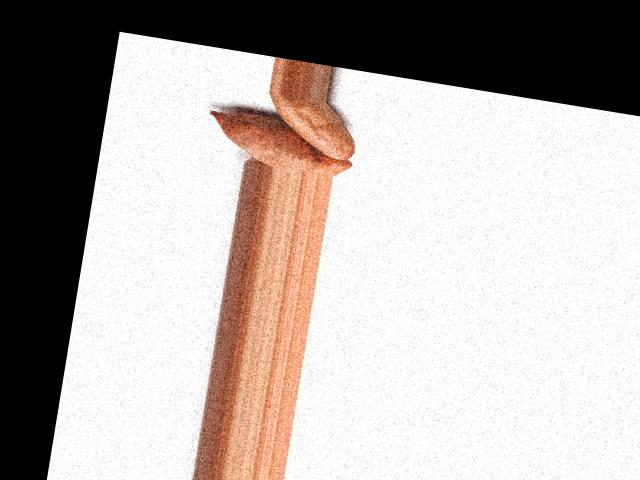sweet_potato: (255, 91, 362, 160)
